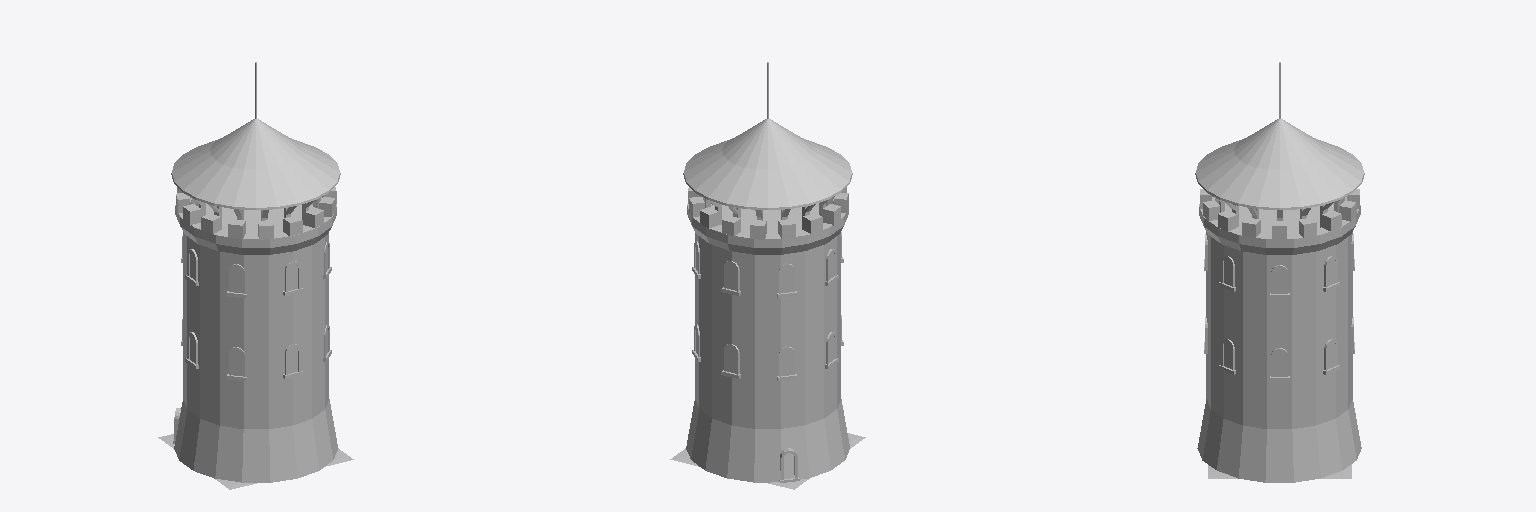
The model's file is RoundTower2LoPoly.obj.
The picture shows the model from 3 angles: view 1: azimuth 30°, elevation 25°; view 2: azimuth 150°, elevation 25°; view 3: azimuth 270°, elevation 25°; orthographic projection.
Parts seen in each view (by area): view 1: limestone, roof, floor; view 2: limestone, roof, floor; view 3: limestone, roof, floor.
Part boxes in pixels (x1,y1,x2,y2): limestone: (173,187,337,482); roof: (171,119,340,209); floor: (190,62,327,375); limestone: (686,187,849,482); roof: (683,119,852,209); floor: (696,62,834,375); limestone: (1197,189,1361,482); roof: (1195,119,1364,209); floor: (1215,62,1344,376).
Size of the model in its own units: 89.81 by 226 by 89.81.